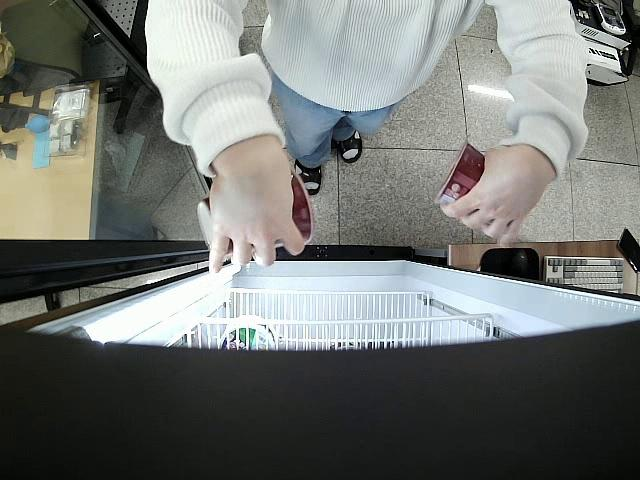00_hand: (208, 136, 308, 273), (442, 145, 556, 237)
06_nuguri_S: (199, 169, 315, 261), (434, 141, 513, 232)
